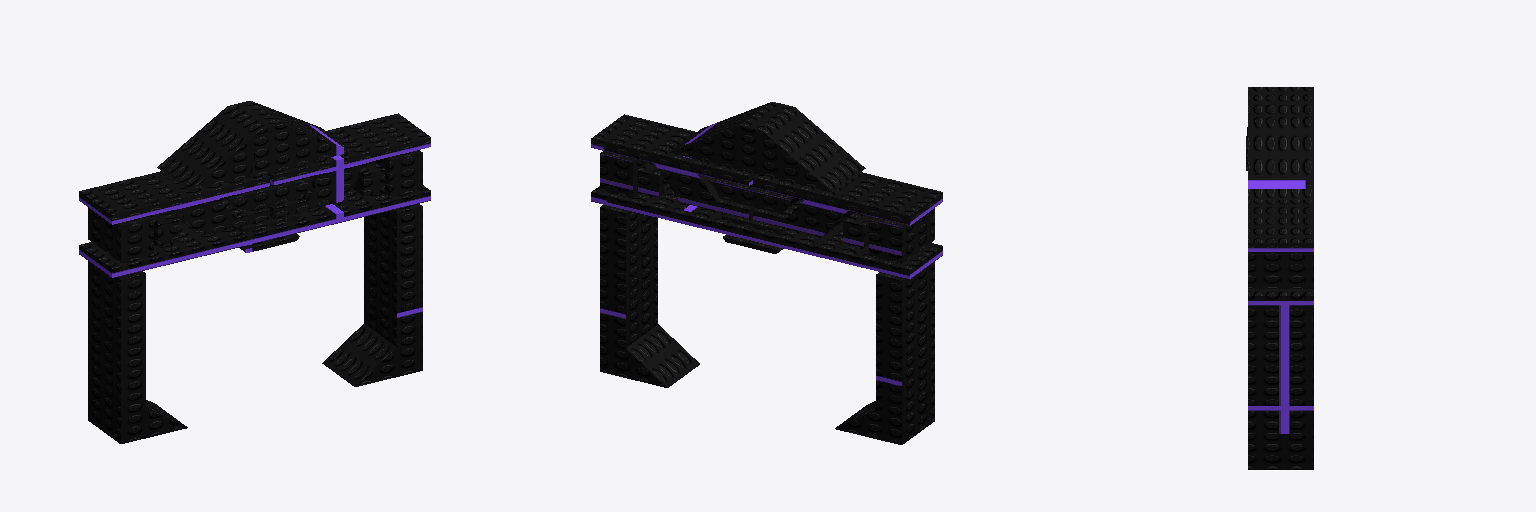
The picture shows the model from 3 angles: view 1: azimuth 30°, elevation 25°; view 2: azimuth 150°, elevation 25°; view 3: azimuth 270°, elevation 25°; orthographic projection.
Visible parts, largest first — view 1: Base; view 2: Base; view 3: Base.
Part boxes in pixels (bbox=[...]): Base: bbox=[79, 101, 430, 443]; Base: bbox=[591, 102, 942, 444]; Base: bbox=[1246, 87, 1313, 469].
Size of the model in its own units: 0.5762 by 0.4836 by 0.107.
Materials: 1 (1 with a texture image).